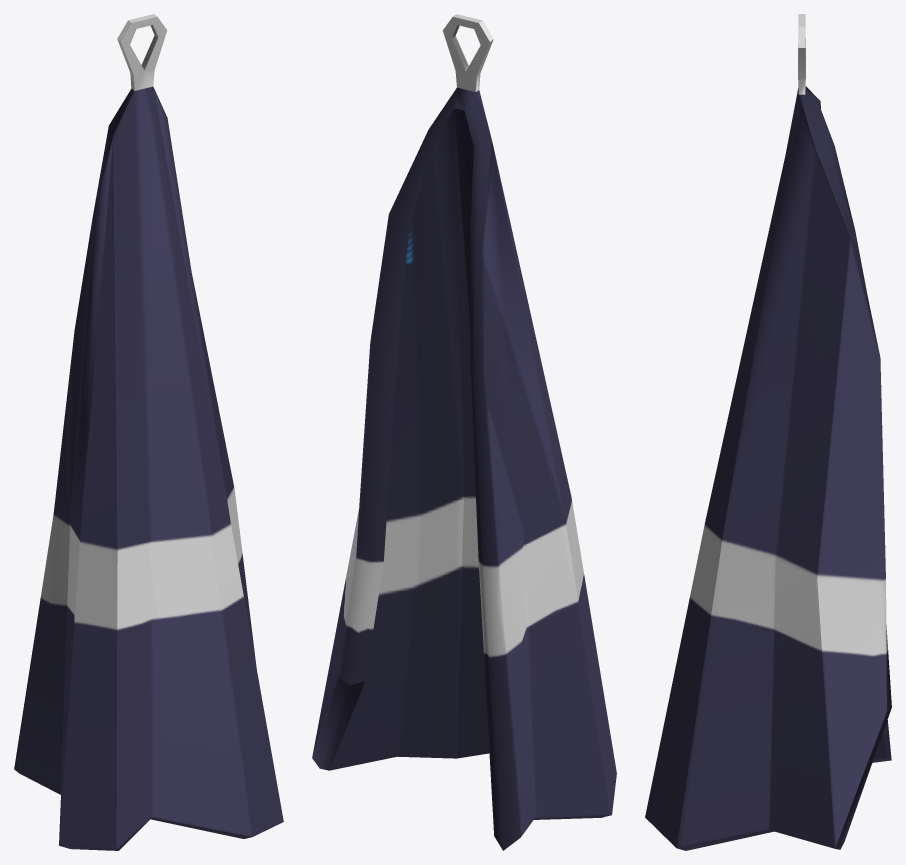
The model's file is housepack_towel_hanging_1.FBX.
3 renders of one model, left to right at view 1: azimuth 30°, elevation 25°; view 2: azimuth 150°, elevation 25°; view 3: azimuth 270°, elevation 25°, orthographic.
Parts seen in each view (by area): view 1: housepack_towel_hanging_1; view 2: housepack_towel_hanging_1; view 3: housepack_towel_hanging_1.
Part boxes in pixels (box(x1,y1,x2,y2)): housepack_towel_hanging_1: box(14, 14, 283, 850); housepack_towel_hanging_1: box(312, 14, 616, 850); housepack_towel_hanging_1: box(645, 14, 891, 850).
Size of the model in its own units: 18.96 by 56.83 by 15.99.
